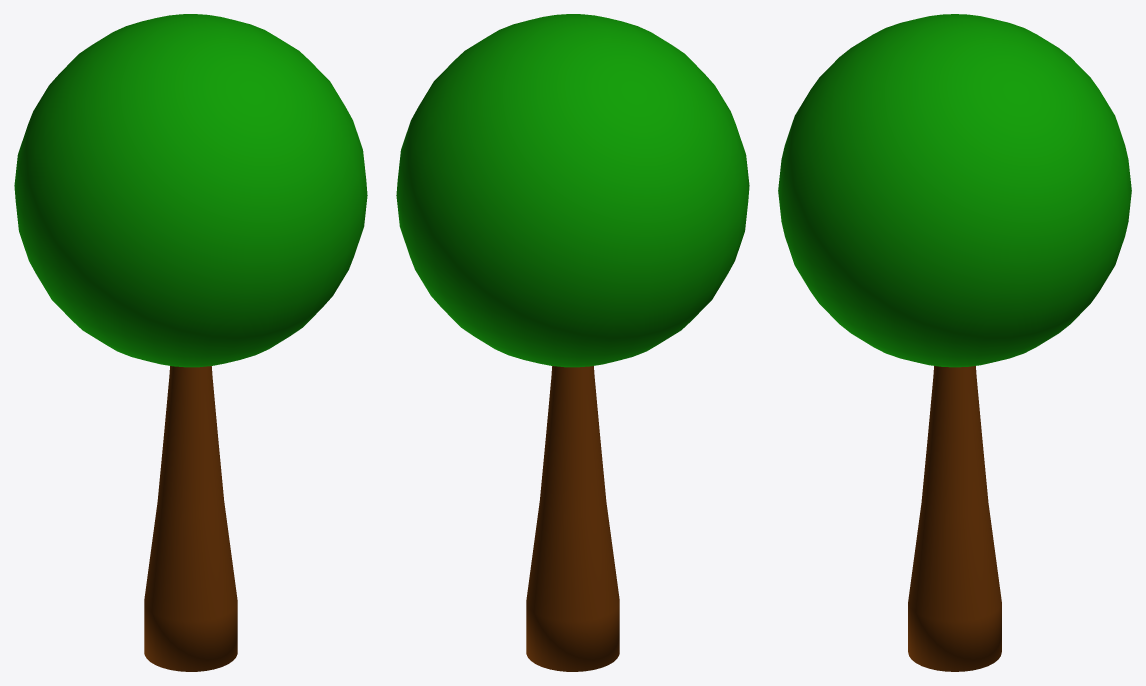
File: Tree.fbx
The picture shows the model from 3 angles, left to right: view 1: azimuth 30°, elevation 25°; view 2: azimuth 150°, elevation 25°; view 3: azimuth 270°, elevation 25°; orthographic projection.
Parts seen in each view (by area): view 1: Sphere, Cylinder; view 2: Sphere, Cylinder; view 3: Sphere, Cylinder.
Boxes of the visible parts, x1=… form: Sphere: x1=14, y1=14, x2=367, y2=367; Cylinder: x1=144, y1=366, x2=237, y2=671; Sphere: x1=396, y1=14, x2=749, y2=367; Cylinder: x1=526, y1=366, x2=619, y2=671; Sphere: x1=778, y1=14, x2=1131, y2=367; Cylinder: x1=908, y1=366, x2=1001, y2=671.
Bounding box in the file's own units: 740 × 1435 × 740.
